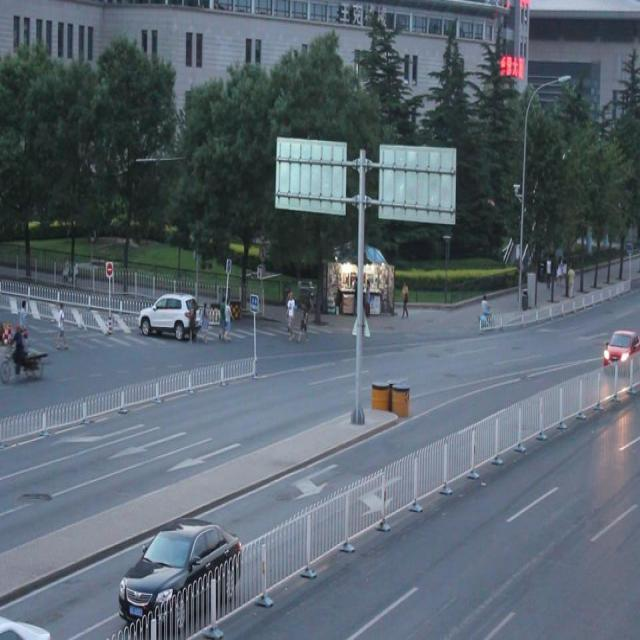car: (119, 514, 242, 617), (140, 293, 200, 339), (0, 607, 50, 640), (600, 327, 640, 368)
